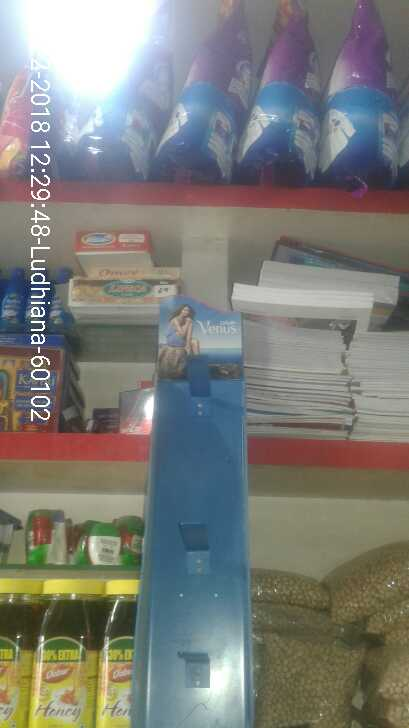reject: (197, 414, 249, 483)
